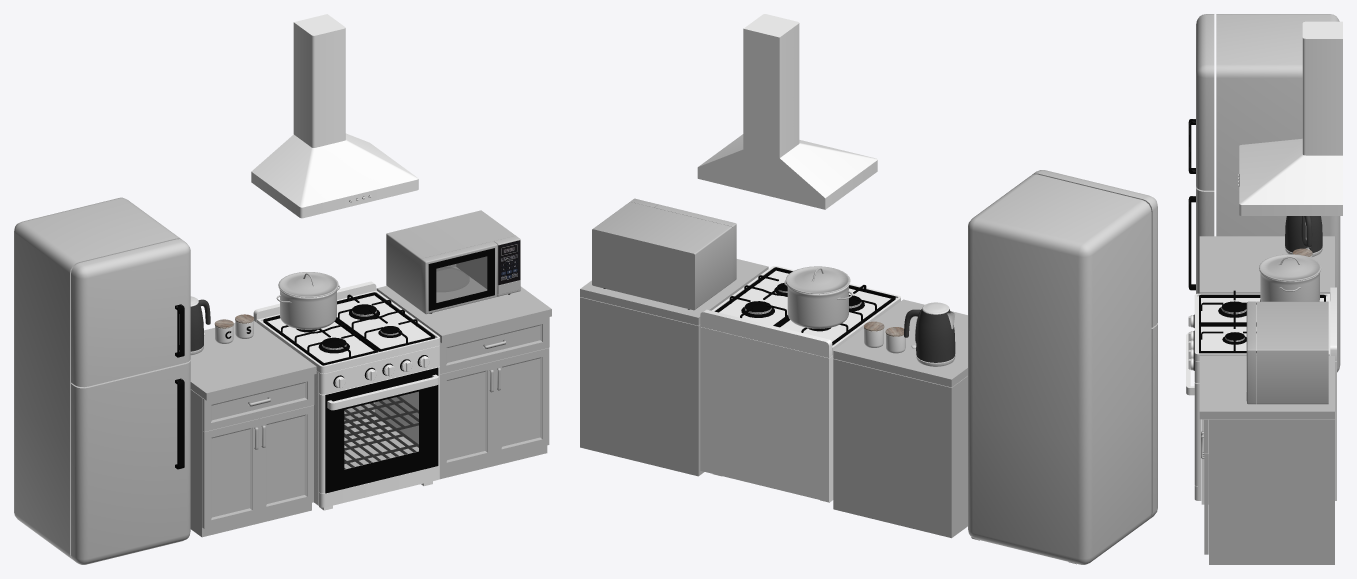
3 views of the same model, side by side, from view 1: azimuth 30°, elevation 25°; view 2: azimuth 150°, elevation 25°; view 3: azimuth 270°, elevation 25° (orthographic). The views are drawn at different scales.
Visible parts, largest first — view 1: Fridge, Oven, Cube.041, Counter, Hood Fan, Microwave, Pot, Kettle; view 2: Fridge, Oven, Cube.041, Counter, Hood Fan, Microwave, Pot, Kettle; view 3: Counter, Fridge, Hood Fan, Microwave, Oven, Cube.041, Pot, Kettle.
Part boxes in pixels (box(x1,y1,x2,y2)): Fridge: box(14, 197, 190, 564); Oven: box(253, 281, 440, 510); Cube.041: box(190, 321, 316, 537); Counter: box(376, 286, 551, 479); Hood Fan: box(251, 14, 418, 218); Microwave: box(386, 210, 520, 314); Pot: box(276, 272, 340, 329); Kettle: box(190, 296, 210, 355); Fridge: box(968, 170, 1157, 564); Oven: box(700, 266, 900, 502); Cube.041: box(833, 299, 967, 538); Counter: box(580, 259, 768, 476); Hood Fan: box(697, 14, 877, 209); Microwave: box(592, 198, 736, 310); Pot: box(784, 266, 852, 328); Kettle: box(904, 302, 955, 366); Counter: box(1199, 356, 1334, 564); Fridge: box(1188, 14, 1340, 372); Hood Fan: box(1238, 21, 1342, 215); Microwave: box(1246, 301, 1328, 404); Oven: box(1186, 287, 1336, 504); Cube.041: box(1199, 236, 1334, 300); Pot: box(1259, 254, 1321, 301); Kettle: box(1285, 216, 1322, 256).
Size of the model in its own units: 2.79 by 2.42 by 0.7682.
